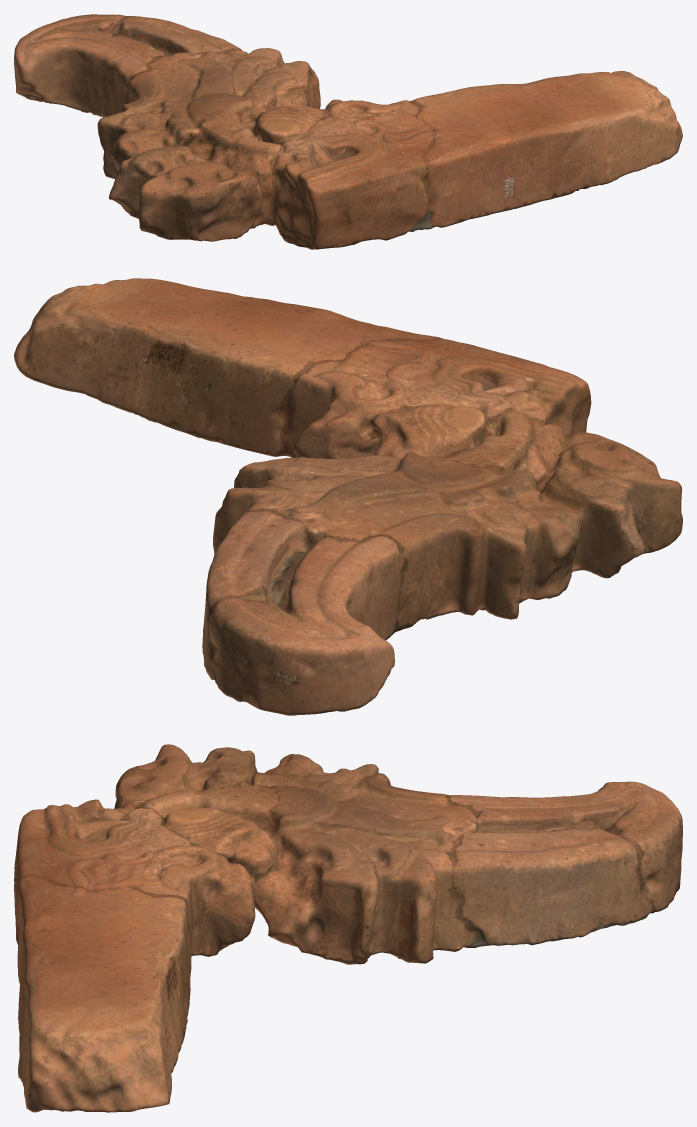
The model's file is MysonMuseum_makara_final.glb.
3 renders of one model, top to bottom at view 1: azimuth 30°, elevation 25°; view 2: azimuth 150°, elevation 25°; view 3: azimuth 270°, elevation 25°, orthographic. The views are drawn at different scales.
Bounding box in the file's own units: 0.649 × 0.0963 × 0.5647.
1 material, 1 textured.
